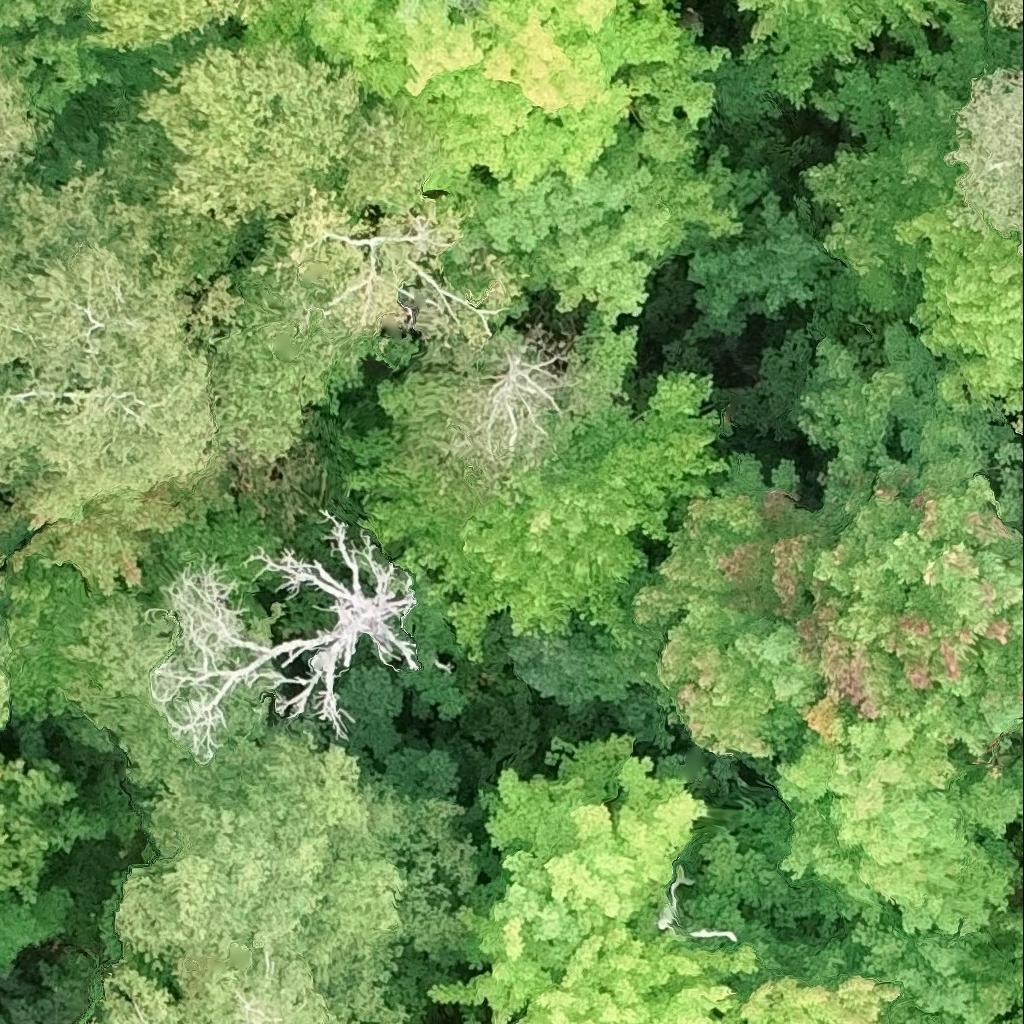crown: (98, 43, 569, 494), (56, 587, 480, 1023), (621, 337, 1023, 784), (244, 0, 786, 328), (339, 309, 731, 660), (0, 159, 242, 596), (802, 0, 1023, 465), (673, 789, 1023, 1023), (148, 513, 417, 756), (454, 733, 705, 969), (774, 717, 1023, 938), (424, 928, 901, 1023), (737, 0, 965, 107), (0, 747, 109, 963), (87, 934, 344, 1023), (0, 0, 133, 129), (943, 66, 1023, 252), (74, 0, 284, 61), (0, 51, 53, 211), (657, 866, 737, 941), (0, 611, 12, 724), (987, 0, 1023, 26), (1003, 1011, 1023, 1023)
